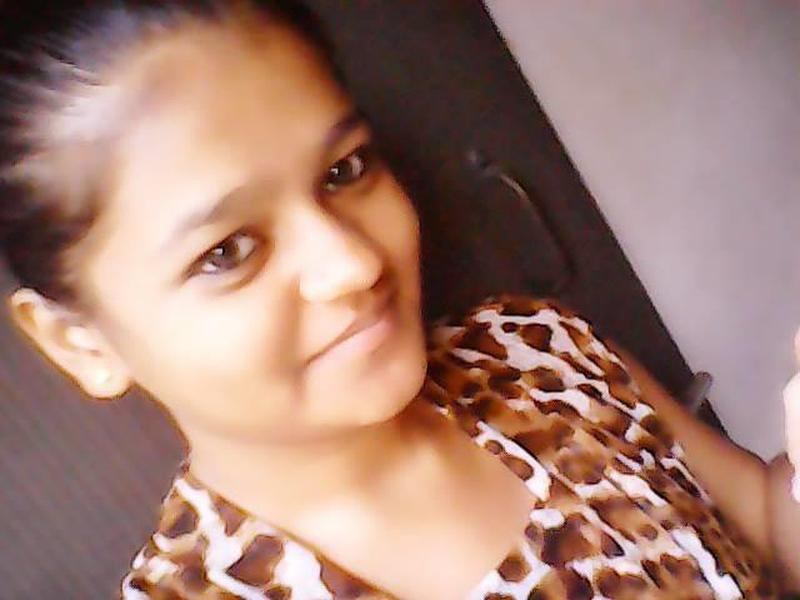without_mask: (39, 90, 430, 440)
